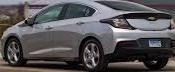Cars: (4, 2, 175, 72)
